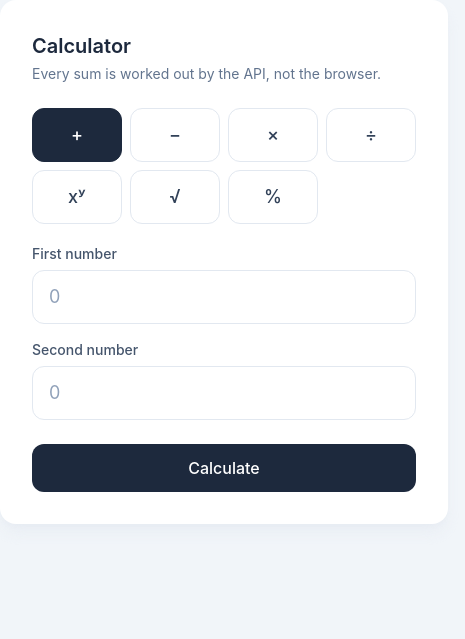
it: displaying the result › formats away floating-point noise
Type "0.1" into the field labelled "First number" at x=224, y=297, box [32,270,416,324]
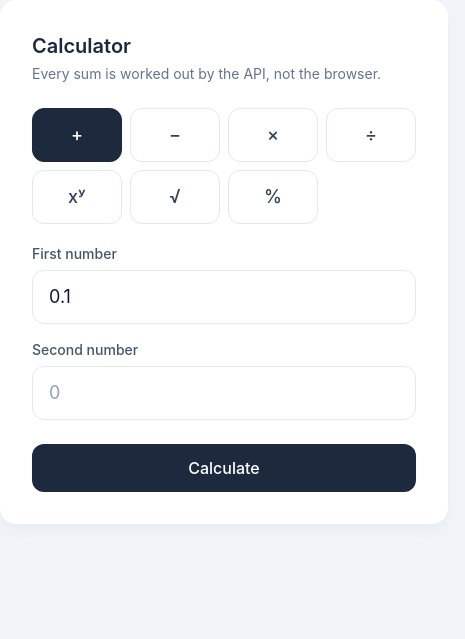
Type "0.2" into the field labelled "Second number" at x=224, y=393, box [32,366,416,420]
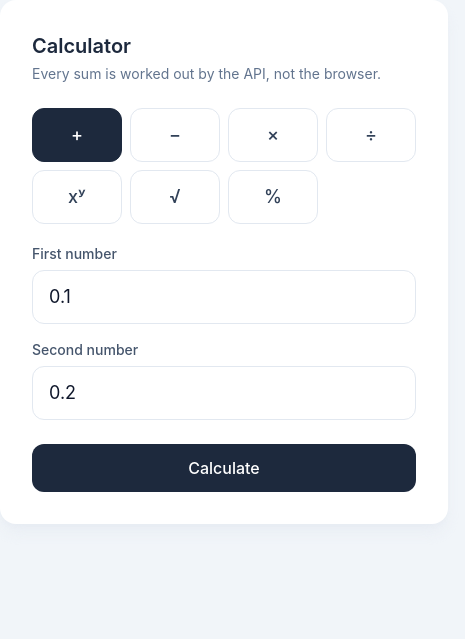
Click the button "Calculate" at x=224, y=468, box [32,444,416,492]
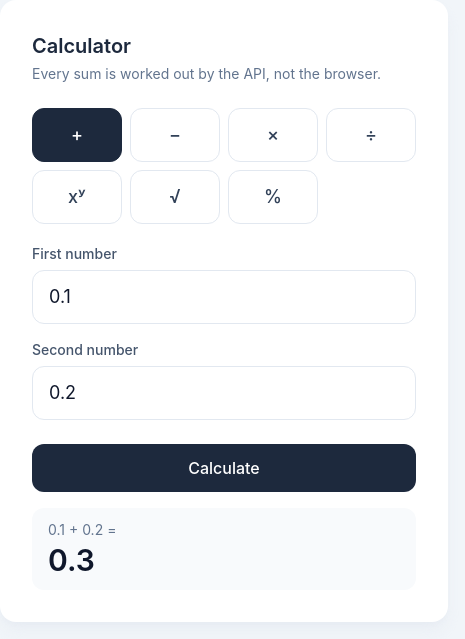
Expected: the message shows "0.3", [48,542,95,578]
